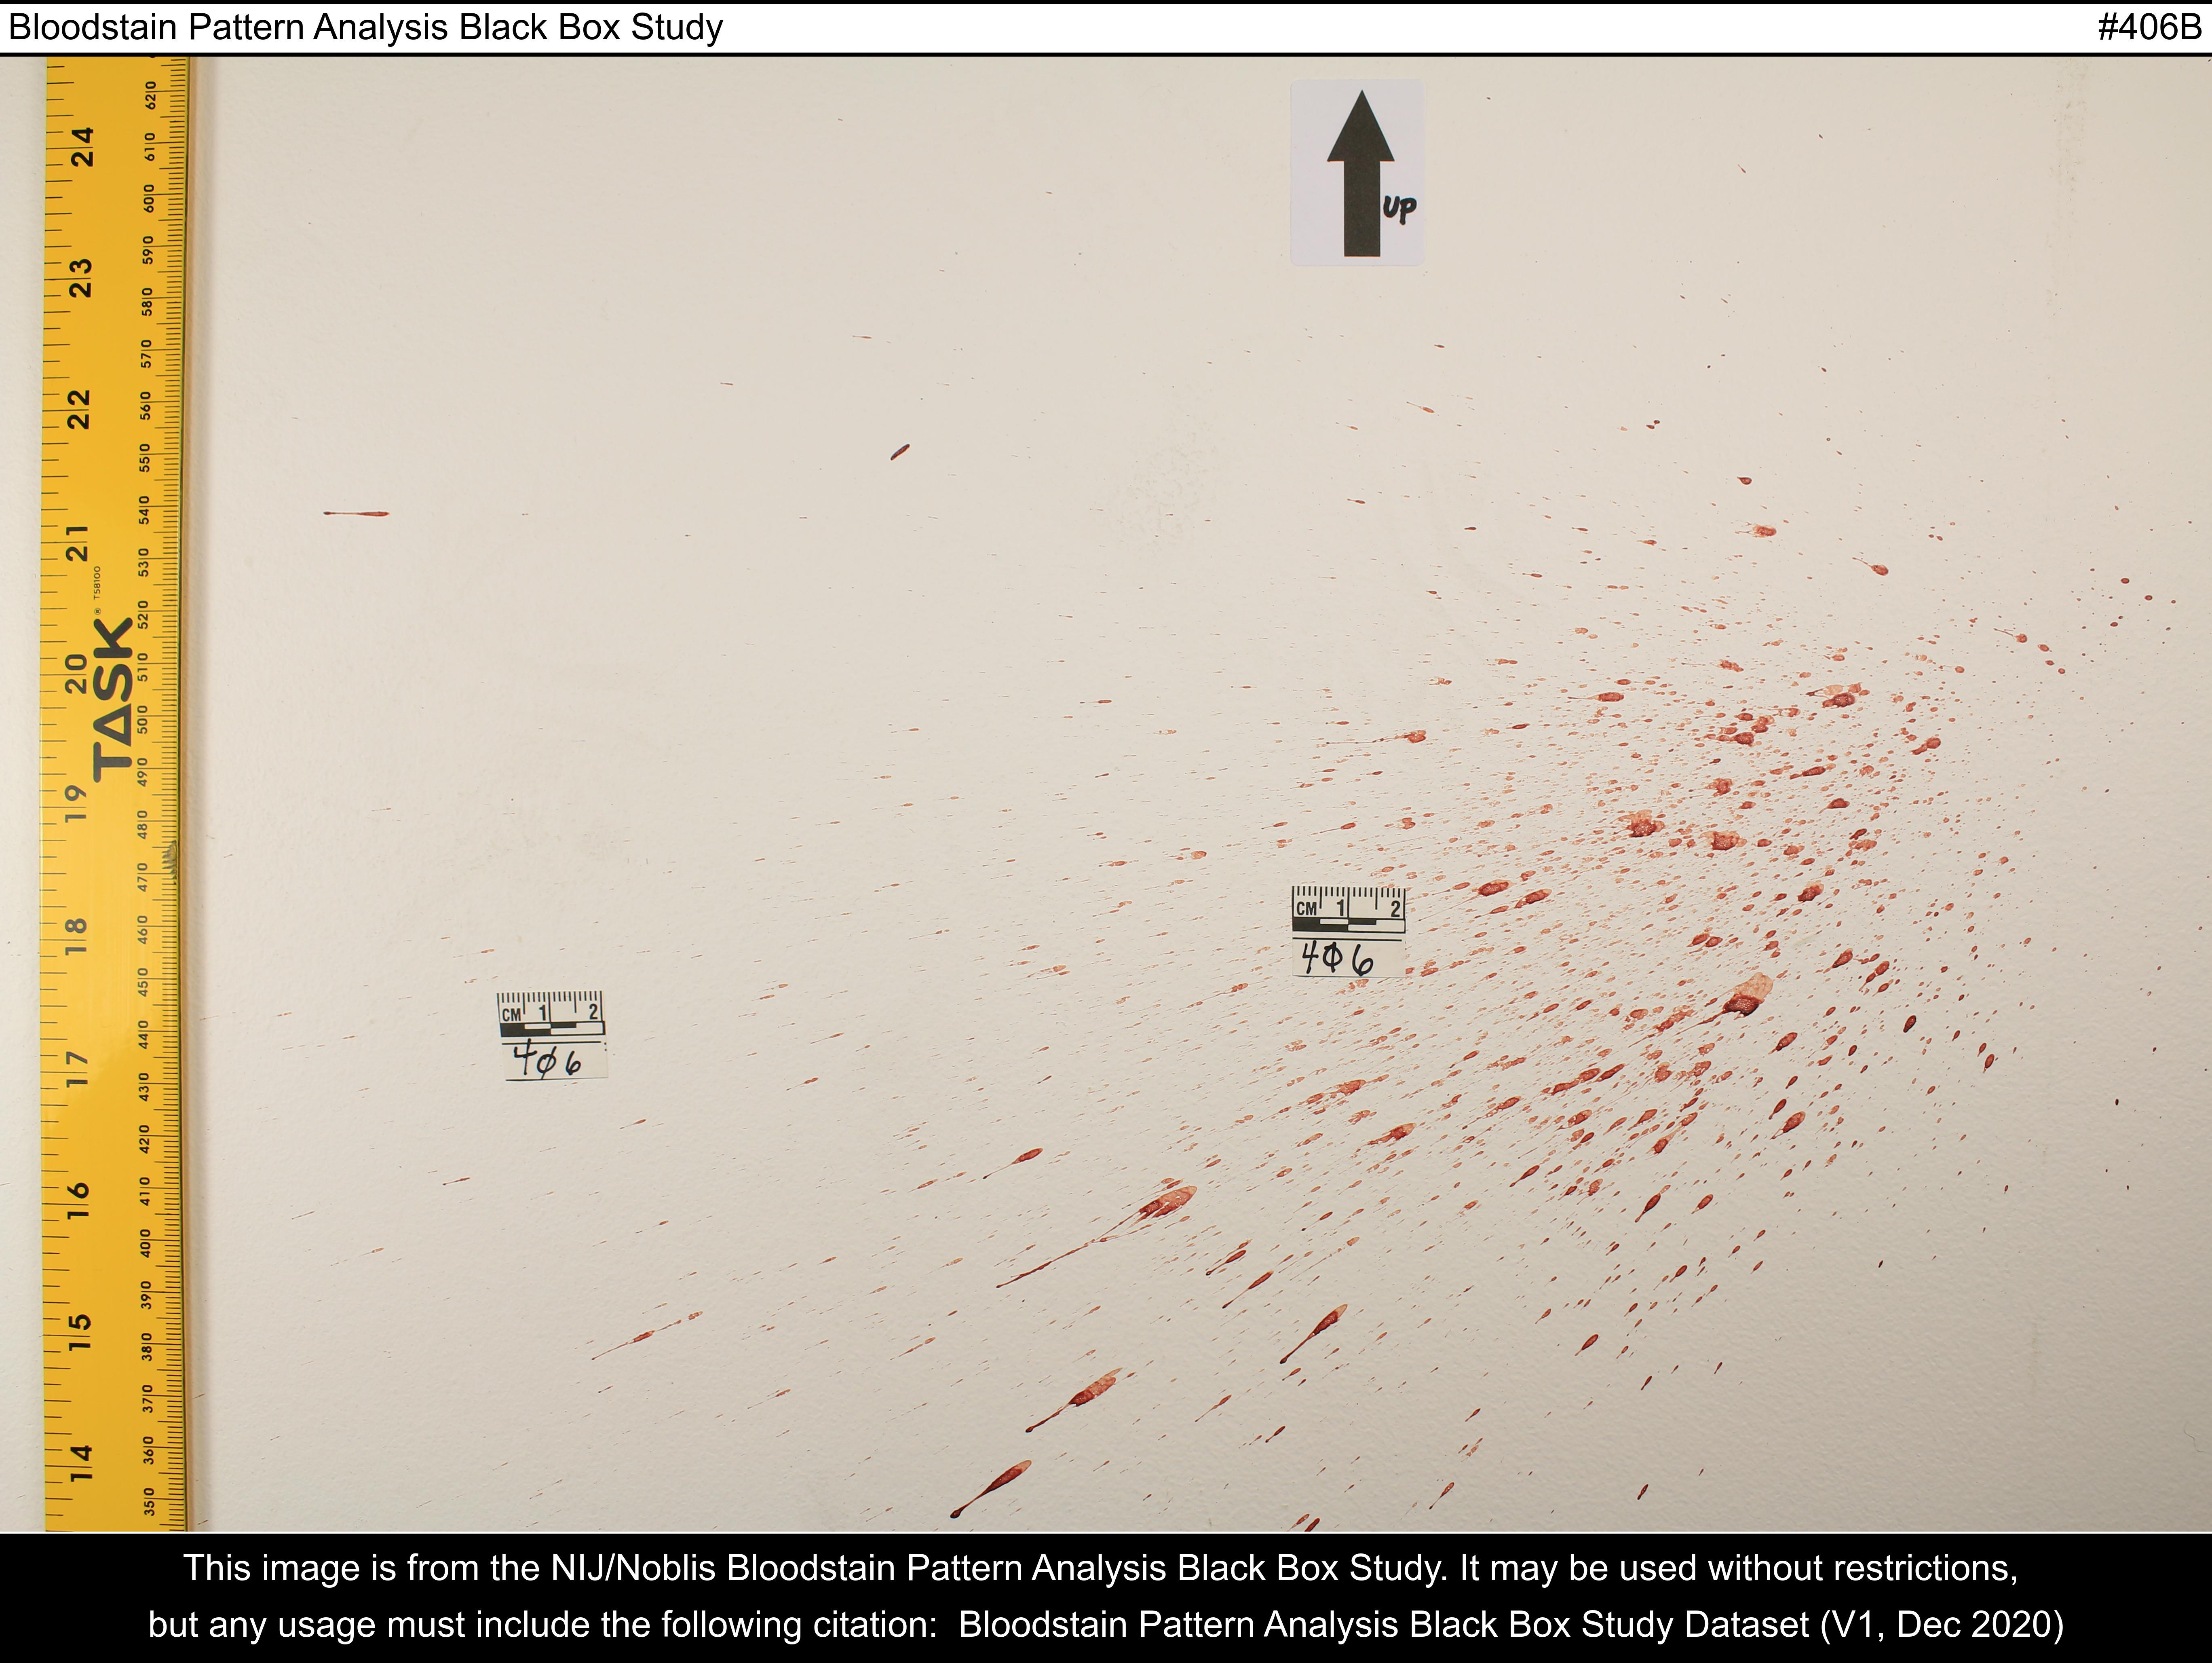Impact: (553, 412, 2202, 1542), (283, 428, 405, 627)
